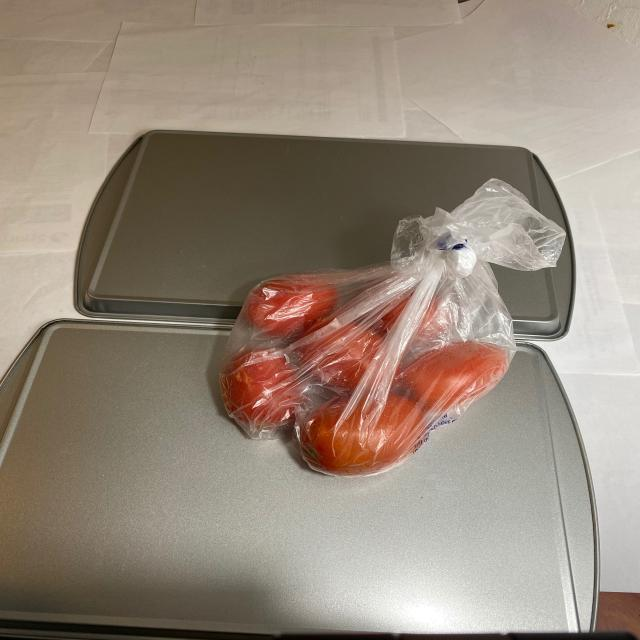tomato: (222, 265, 518, 478)
